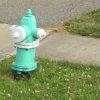a fire hydrant: (14, 7, 45, 74)
